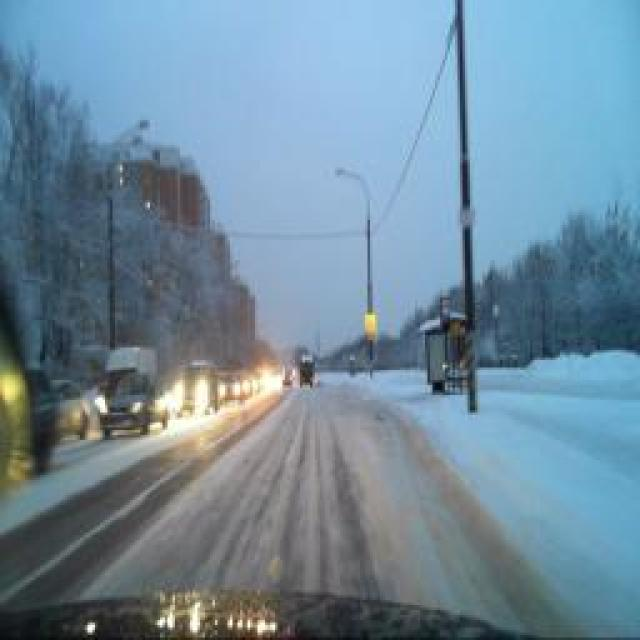sign: (440, 295, 452, 323)
